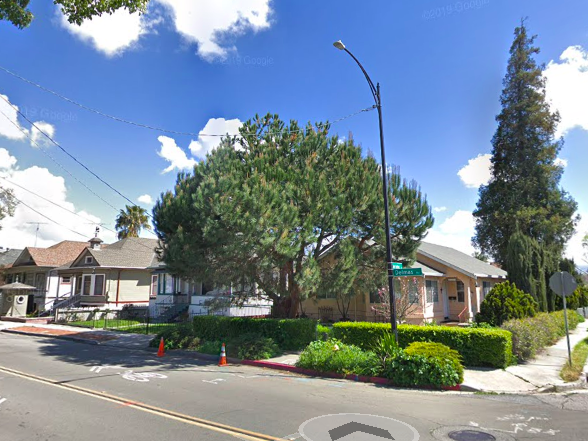tree: (152, 110, 435, 319)
